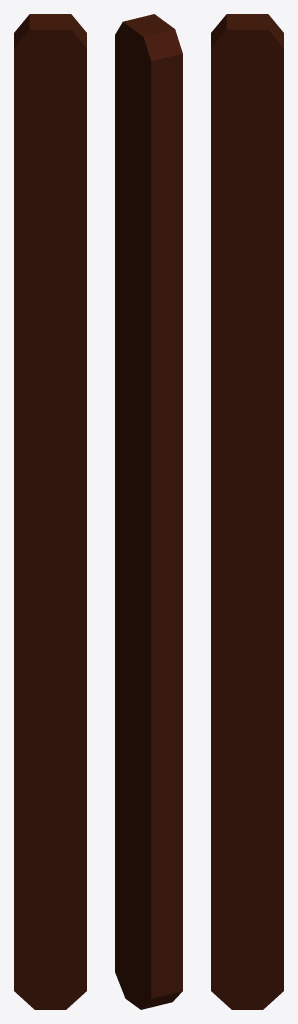
Rendered from Wall_Splitter.fbx.
The picture shows the model from 3 angles, left to right: view 1: azimuth 90°, elevation 25°; view 2: azimuth 210°, elevation 25°; view 3: azimuth 270°, elevation 25°; orthographic projection.
Visible parts, largest first — view 1: Wall_Splitter; view 2: Wall_Splitter; view 3: Wall_Splitter.
Part boxes in pixels (box(x1,y1,x2,y2)): Wall_Splitter: box(14, 14, 86, 1009); Wall_Splitter: box(115, 14, 182, 1009); Wall_Splitter: box(211, 14, 283, 1009).
Bounding box in the file's own units: 0.0707 × 0.14 × 2.08.
